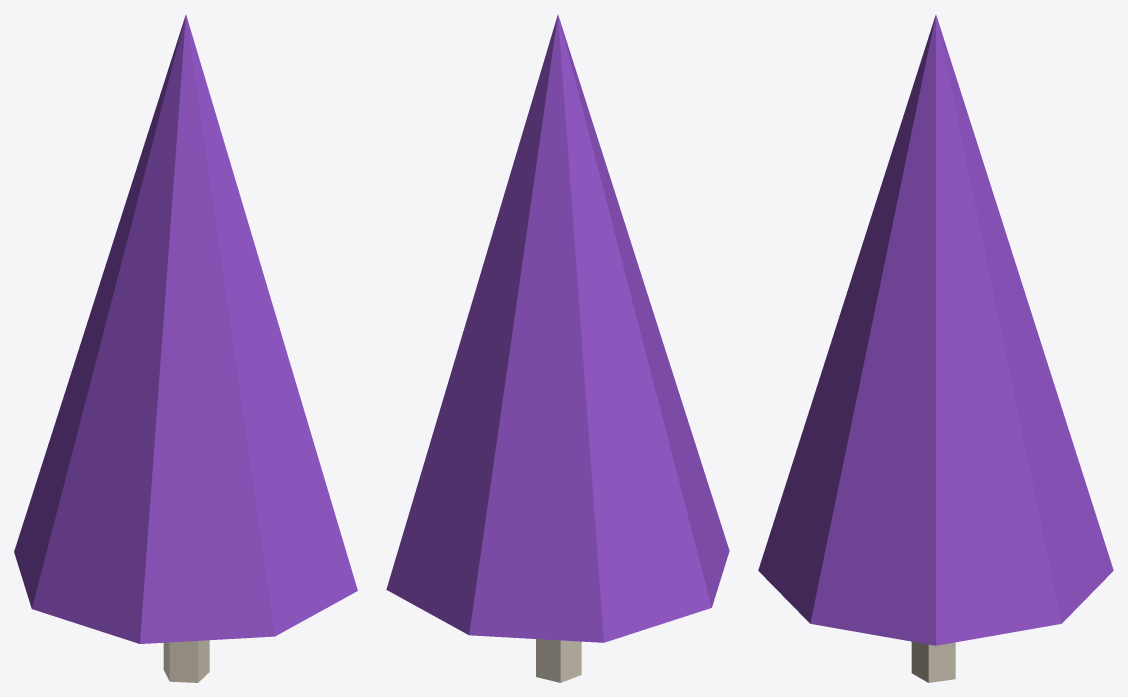
Rendered from land_tree_toy_cone_purple.glb.
3 renders of one model, left to right at view 1: azimuth 30°, elevation 25°; view 2: azimuth 150°, elevation 25°; view 3: azimuth 270°, elevation 25°, orthographic.
Size of the model in its own units: 4.4 by 9 by 4.4.
